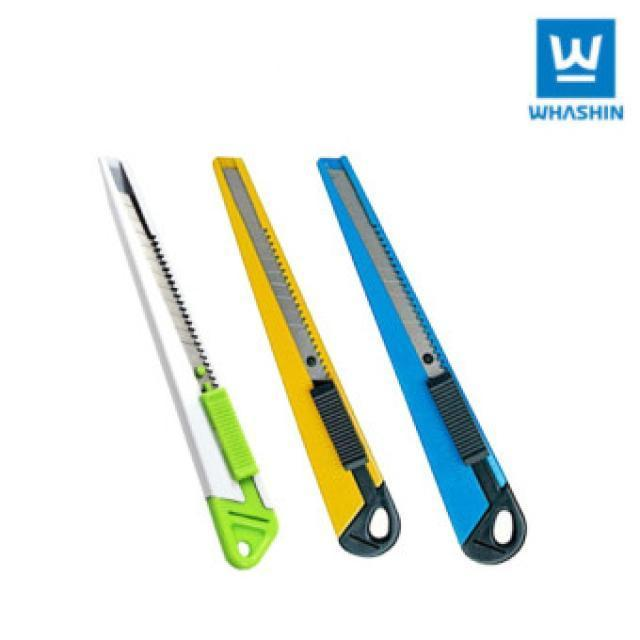cutter: (302, 152, 538, 574), (78, 140, 290, 578), (194, 153, 412, 560)
